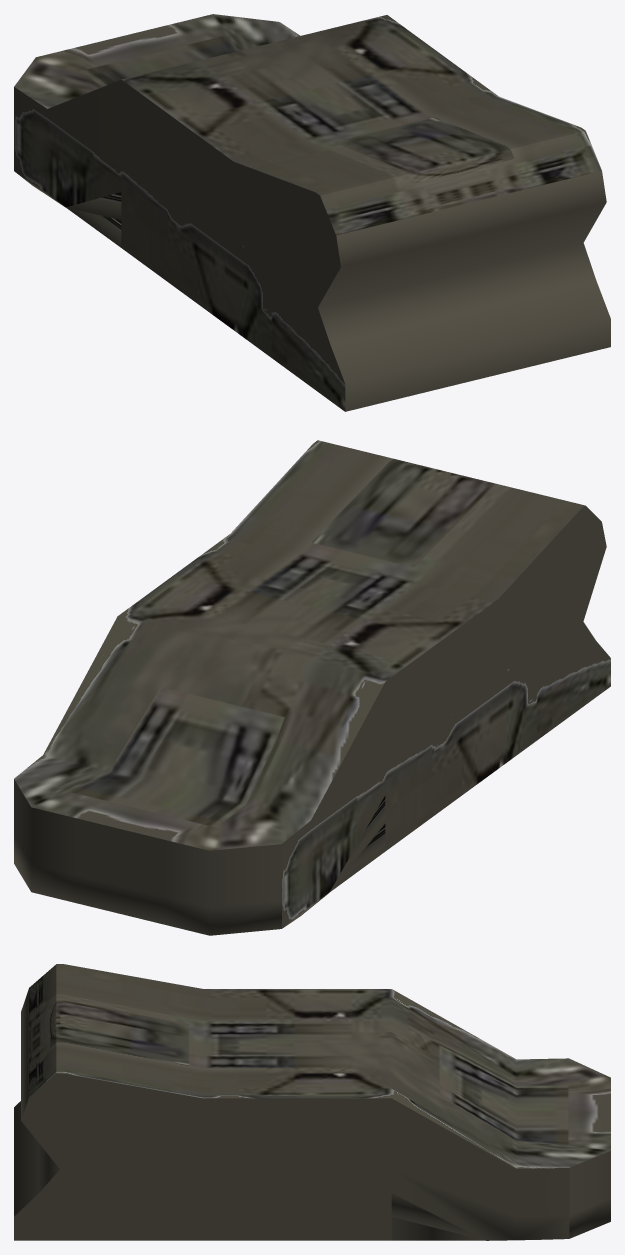
Rendered from alienground.FBX.
3 renders of one model, top to bottom at view 1: azimuth 30°, elevation 25°; view 2: azimuth 150°, elevation 25°; view 3: azimuth 270°, elevation 25°, orthographic. The views are drawn at different scales.
Visible parts, largest first — view 1: Box002; view 2: Box002; view 3: Box002.
Boxes of the visible parts, box(x1,y1,x2,y2) form: Box002: box(14, 14, 610, 411); Box002: box(14, 440, 610, 935); Box002: box(14, 964, 610, 1240).
Size of the model in its own units: 42.03 by 96.03 by 29.7.
Materials: 1 (1 with a texture image).
